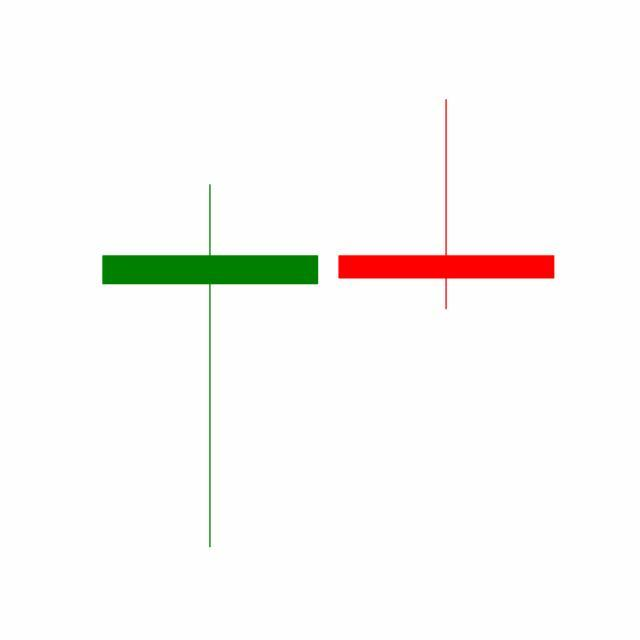Gravestone Doji: (328, 98, 566, 313)
